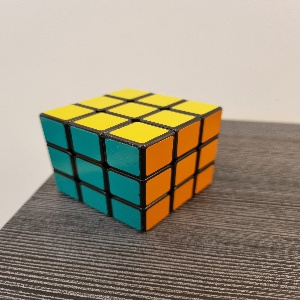cube: (40, 88, 223, 233)
